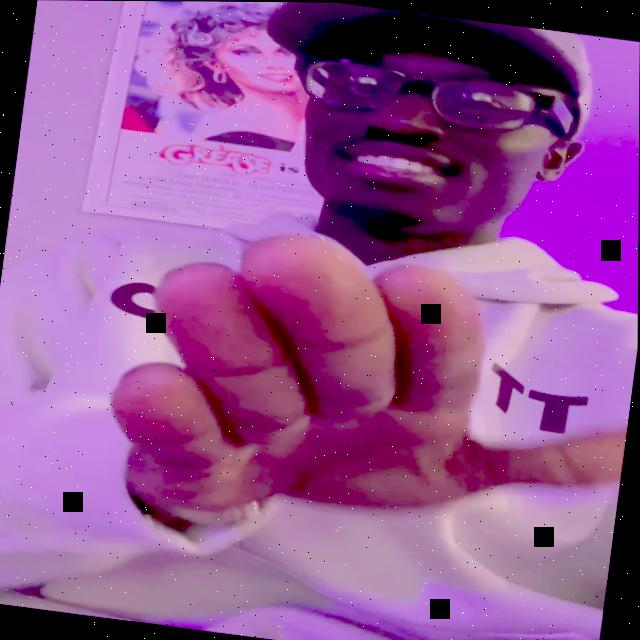Paper: (103, 214, 639, 572)
